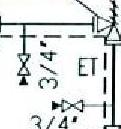psv: (96, 1, 121, 46)
